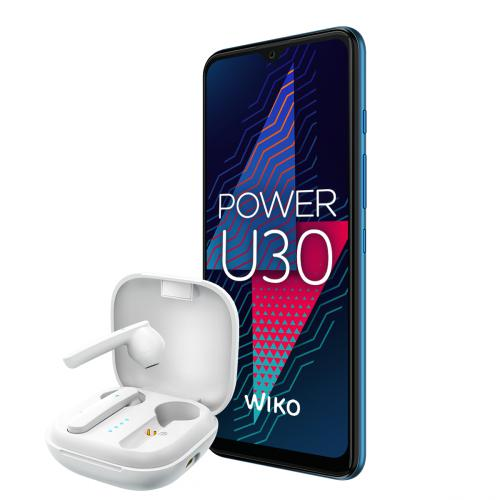Smartphone: (204, 32, 371, 475)
